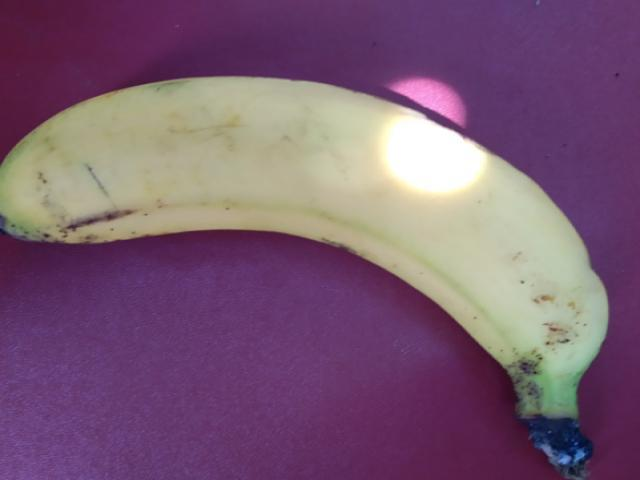freshripe: (17, 64, 605, 383)
